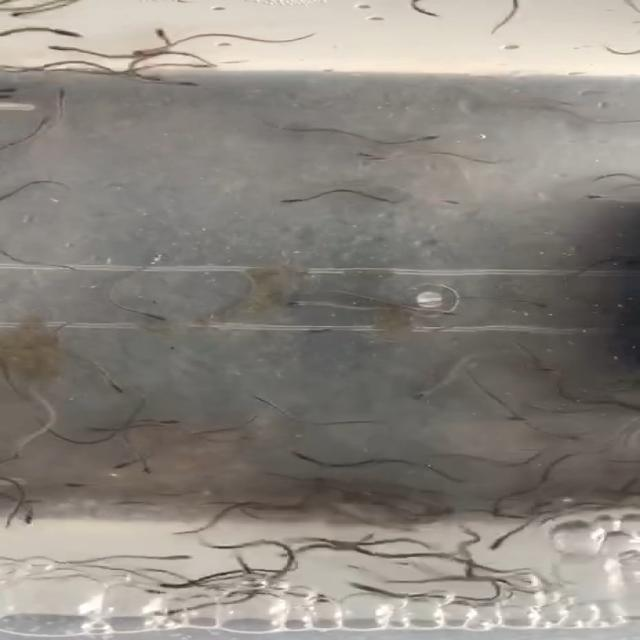active_glass_eel: (161, 72, 216, 98), (141, 576, 207, 597), (552, 190, 634, 204), (160, 548, 214, 568), (30, 86, 93, 102), (143, 309, 190, 329), (32, 25, 94, 40), (347, 146, 398, 164), (14, 116, 67, 133), (86, 456, 136, 474), (253, 194, 316, 208), (288, 325, 343, 341), (484, 497, 513, 527), (489, 405, 528, 427), (401, 385, 440, 407), (31, 41, 83, 57), (243, 391, 281, 412), (121, 464, 166, 481), (284, 449, 324, 468), (276, 294, 310, 315), (339, 578, 382, 594), (476, 533, 510, 553), (11, 511, 48, 529), (119, 44, 166, 58), (156, 416, 198, 431), (447, 561, 484, 578), (423, 306, 462, 322), (146, 21, 178, 40), (420, 129, 451, 147), (59, 478, 96, 493), (526, 292, 550, 315), (332, 538, 359, 557), (560, 428, 588, 446), (109, 380, 137, 398), (83, 425, 121, 437)
